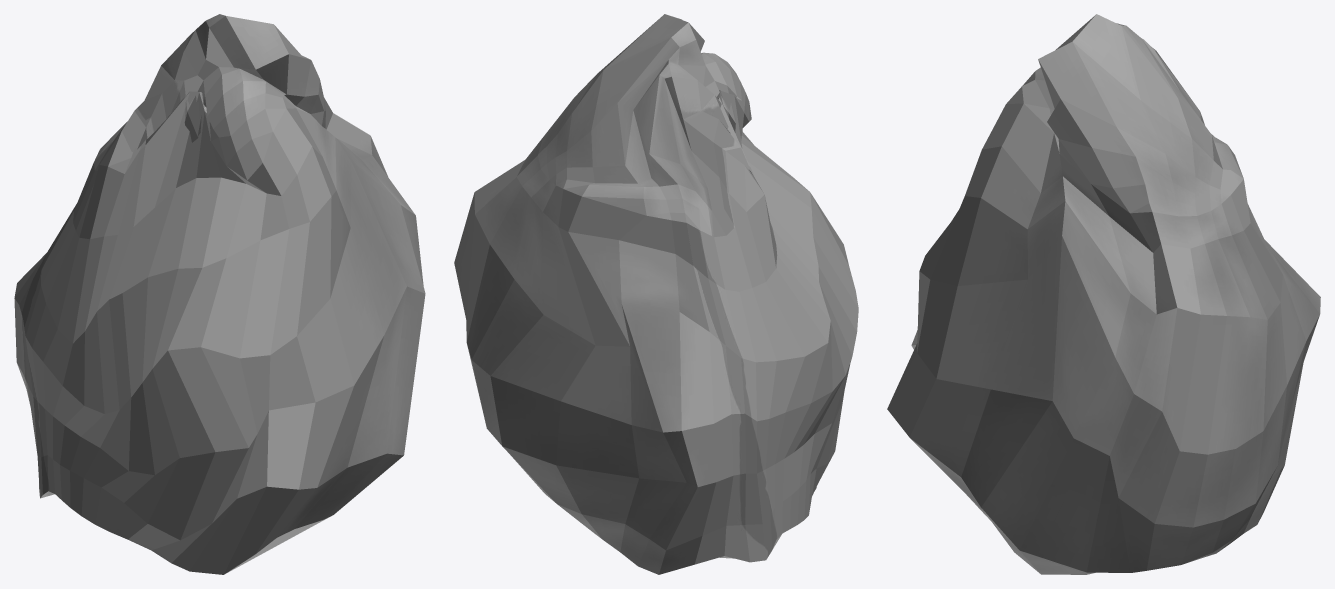
Rendered from piedra5.glb.
3 renders of one model, left to right at view 1: azimuth 30°, elevation 25°; view 2: azimuth 150°, elevation 25°; view 3: azimuth 270°, elevation 25°, orthographic. The views are drawn at different scales.
Parts seen in each view (by area): view 1: piedra 5; view 2: piedra 5; view 3: piedra 5.
Part boxes in pixels (x1,y1,x2,y2): piedra 5: (14,14,425,574); piedra 5: (454,14,858,574); piedra 5: (887,14,1320,574).
Size of what is drawn, in the model's own units: 3 by 4 by 3.
Materials: 1 (1 with a texture image).
